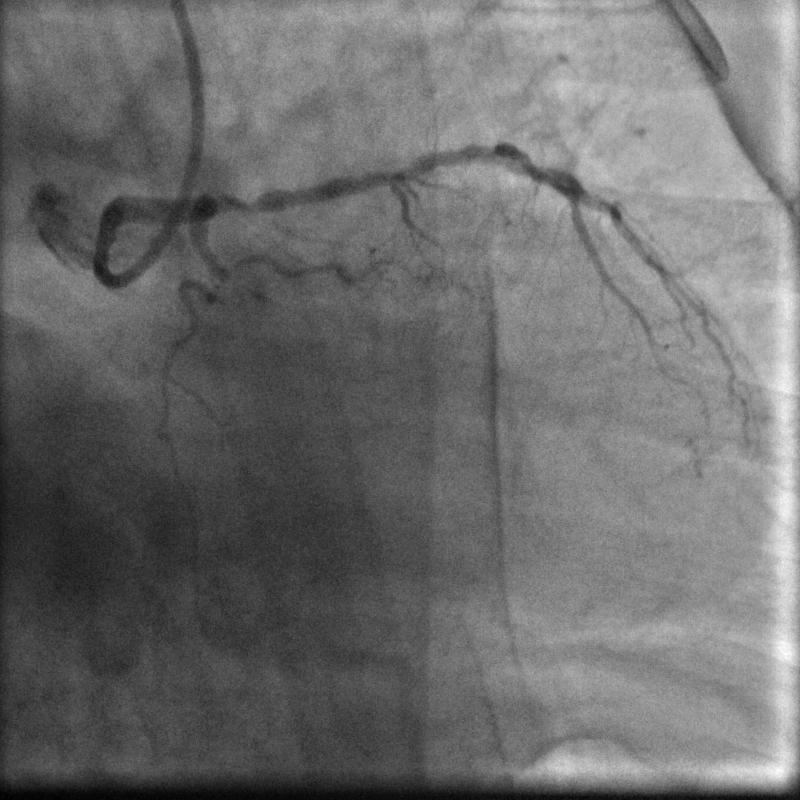Stenosis: (214, 187, 275, 218)
